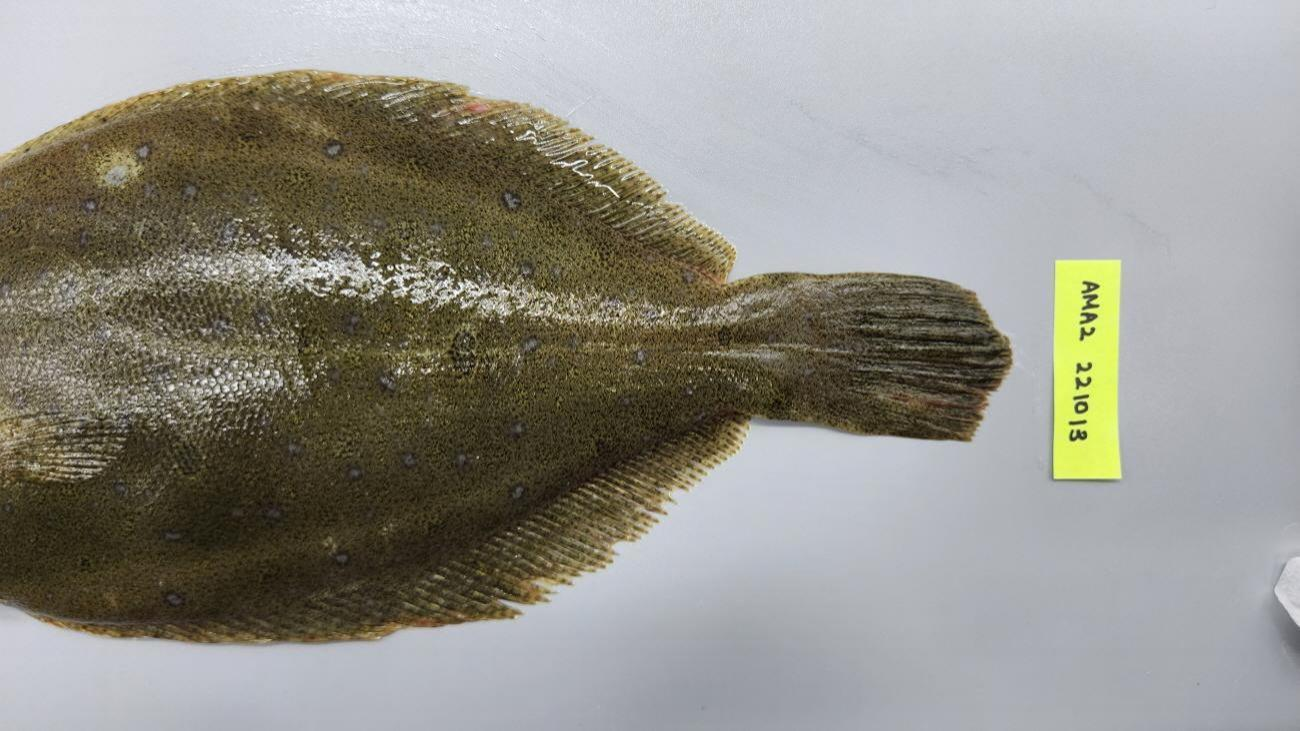MAFCH: (863, 375, 993, 421)
